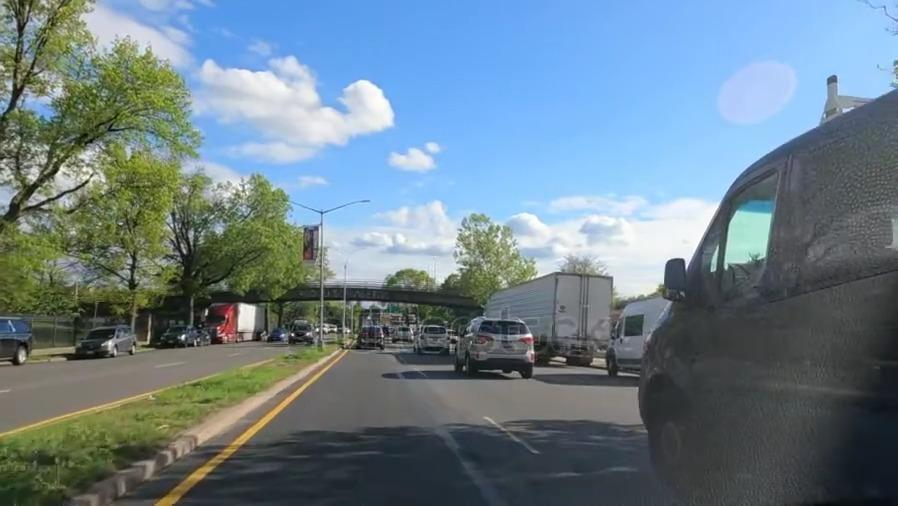car: (460, 319, 531, 371), (0, 315, 43, 360), (73, 329, 138, 355), (416, 324, 449, 353), (157, 327, 195, 348), (357, 324, 385, 351), (289, 322, 316, 342)
van: (633, 131, 898, 474), (609, 304, 655, 369)
wheel: (638, 387, 698, 492)
